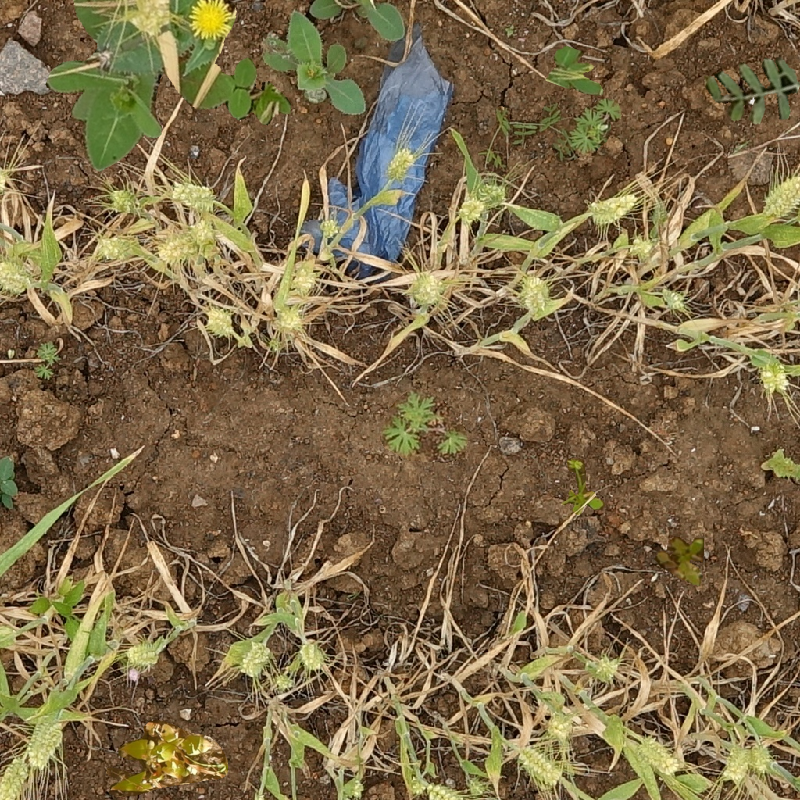spikelet: (24, 714, 65, 770), (514, 742, 562, 786), (762, 170, 799, 220), (637, 734, 680, 775), (587, 190, 637, 225), (517, 272, 551, 317), (169, 179, 215, 212), (408, 270, 445, 308), (1, 754, 29, 800), (239, 639, 272, 678), (156, 232, 194, 264), (720, 744, 751, 783), (1, 258, 34, 294), (384, 146, 416, 182), (757, 359, 789, 395), (288, 260, 320, 295), (273, 304, 306, 337), (203, 304, 235, 338), (296, 637, 327, 672), (472, 179, 507, 209), (123, 641, 160, 669), (108, 186, 142, 216), (544, 709, 576, 740), (588, 653, 621, 683), (94, 234, 130, 260), (423, 780, 471, 799), (660, 286, 690, 315), (457, 195, 485, 226), (188, 218, 217, 247), (627, 234, 656, 261), (748, 743, 774, 773), (316, 216, 342, 242), (465, 773, 489, 797), (341, 775, 364, 799)
weed: (62, 1, 258, 163), (257, 13, 370, 117), (106, 720, 228, 797), (692, 55, 800, 138), (478, 93, 619, 153), (380, 389, 468, 463), (304, 1, 414, 46), (545, 43, 615, 101), (561, 457, 605, 515), (654, 537, 704, 586), (32, 338, 64, 382), (1, 454, 17, 518)
